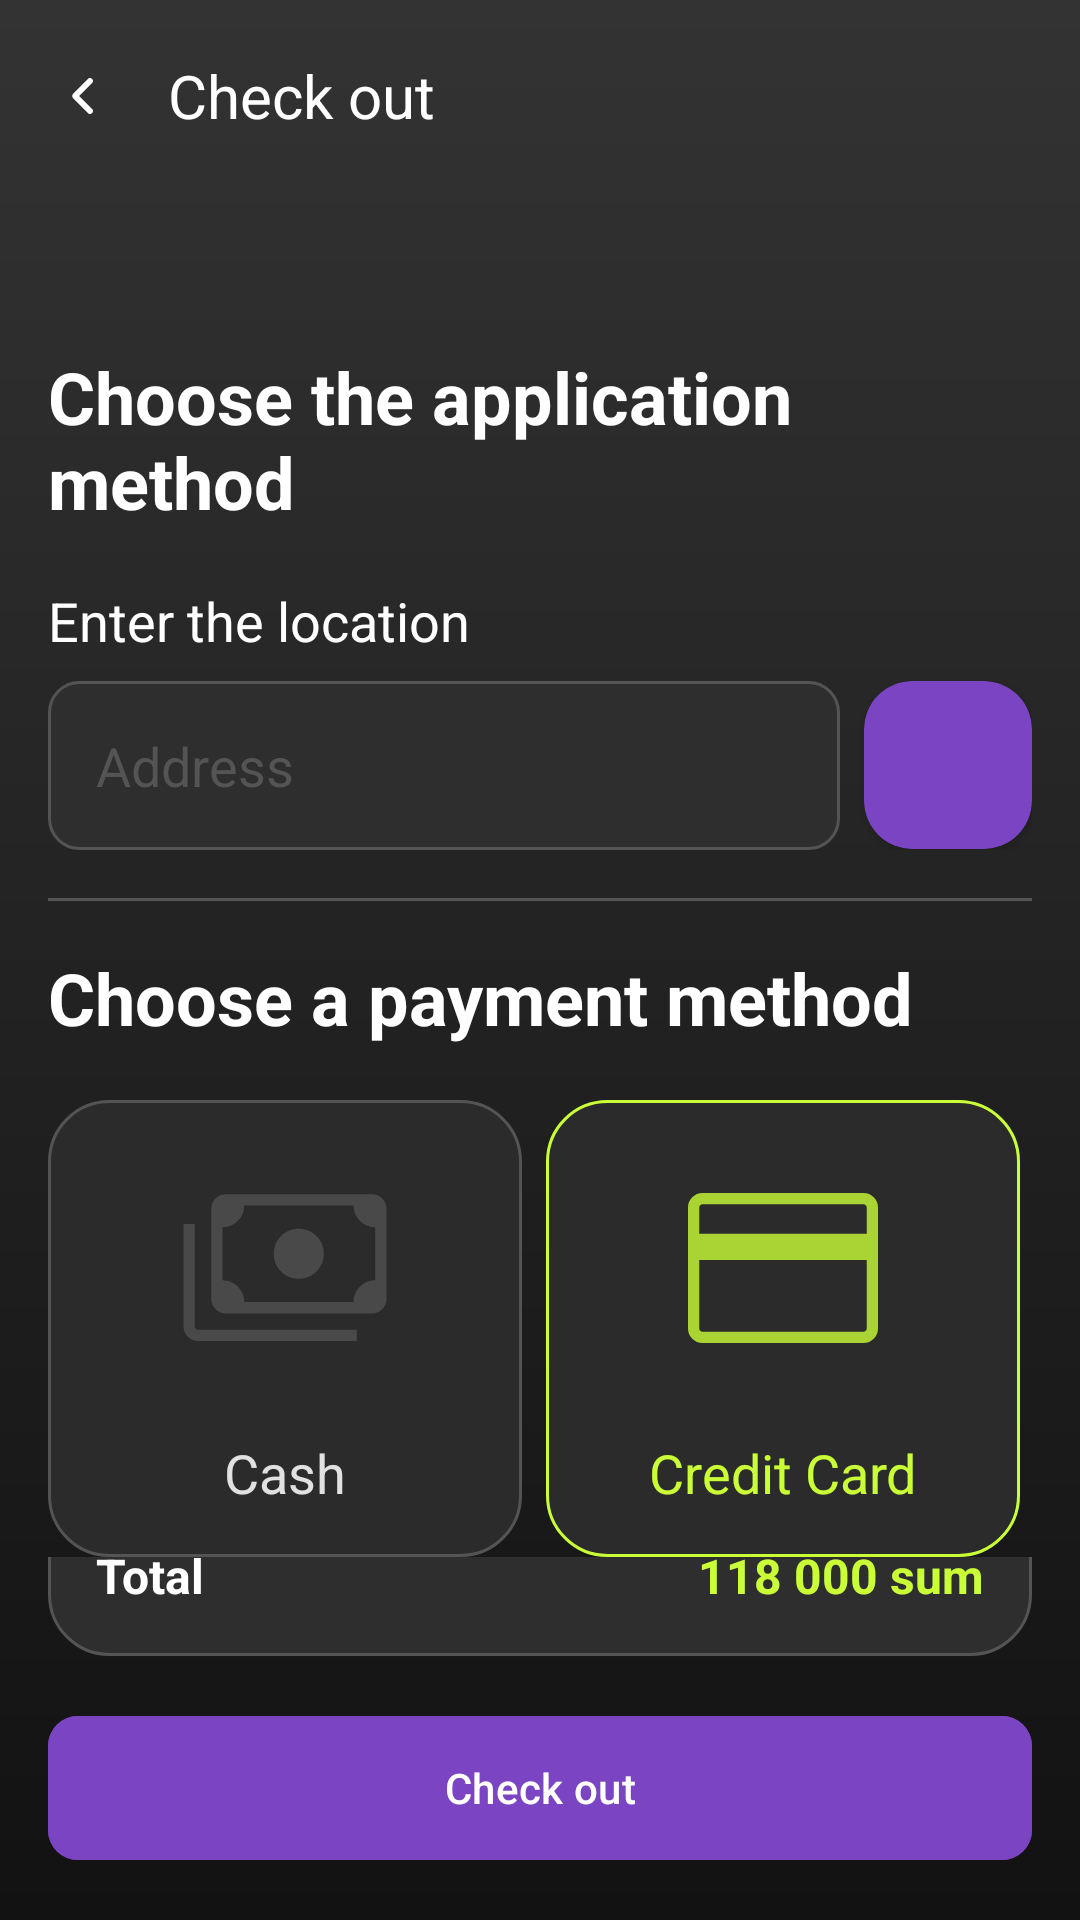

Locate icon controls on the screen. Image size 1080 x 1920, boxes as (x1, y1, x2, y2).
back: (72, 78, 93, 114)
payments: (184, 1195, 386, 1341)
